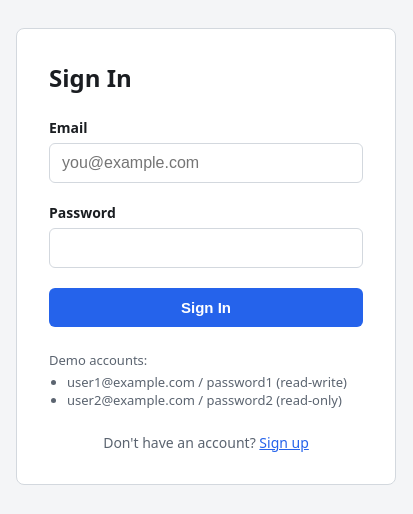
Test: LoginPage › rejects an email that is not a valid address
In the field labelled "Email": (206, 162) x1=49 y1=142 x2=363 y2=182, type "not-an-email"
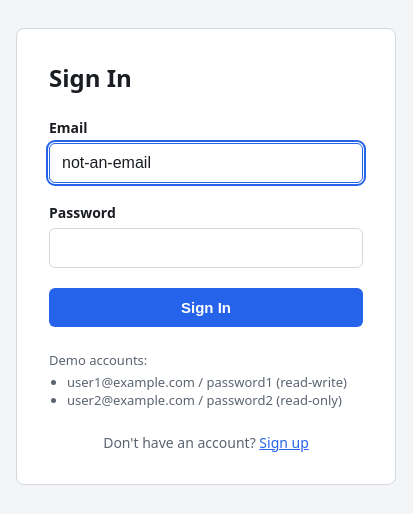
In the password field labelled "Password": (206, 248) x1=49 y1=228 x2=363 y2=268, type "password1"
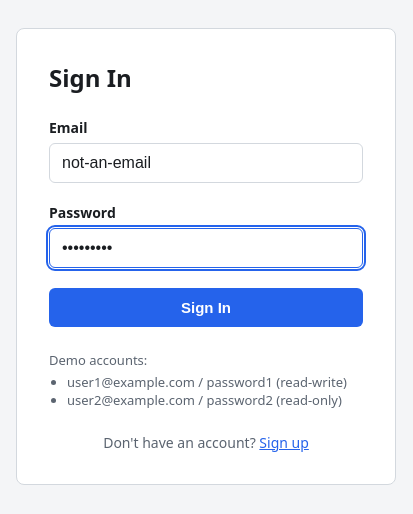
Click the button "Sign In": (206, 307) x1=49 y1=288 x2=363 y2=326
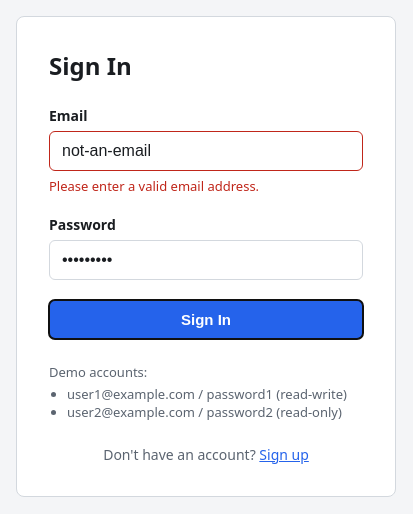
Now the text "Please enter a valid email address." is shown, box x1=49 y1=176 x2=259 y2=194
